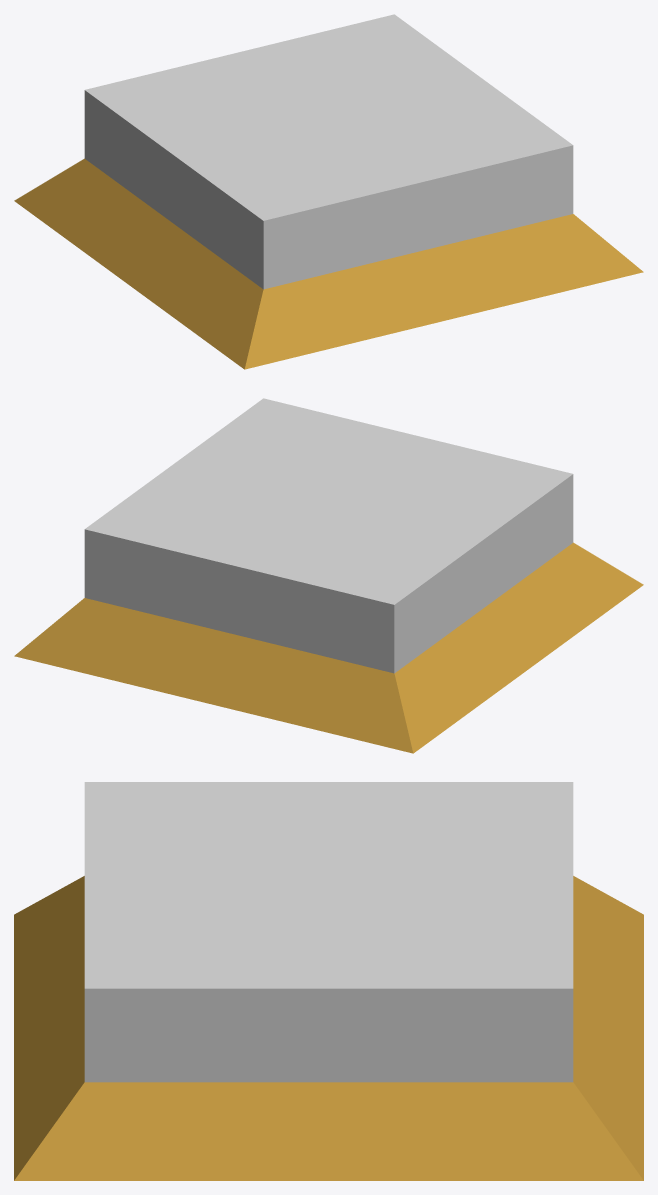
File: button.fbx
The picture shows the model from 3 angles, top to bottom: view 1: azimuth 30°, elevation 25°; view 2: azimuth 150°, elevation 25°; view 3: azimuth 270°, elevation 25°; orthographic projection. The views are drawn at different scales.
Parts seen in each view (by area): view 1: Cube; view 2: Cube; view 3: Cube.
Boxes of the visible parts, x1,y1,x2,y2 form: Cube: (14,14,643,369); Cube: (14,398,643,753); Cube: (14,782,643,1180).
Size of the model in its own units: 167 by 47.56 by 167.
